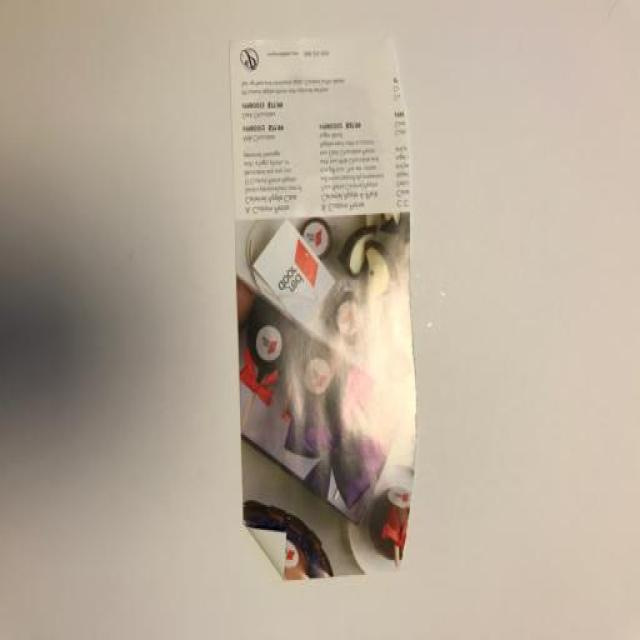kertas: (229, 37, 418, 582)
